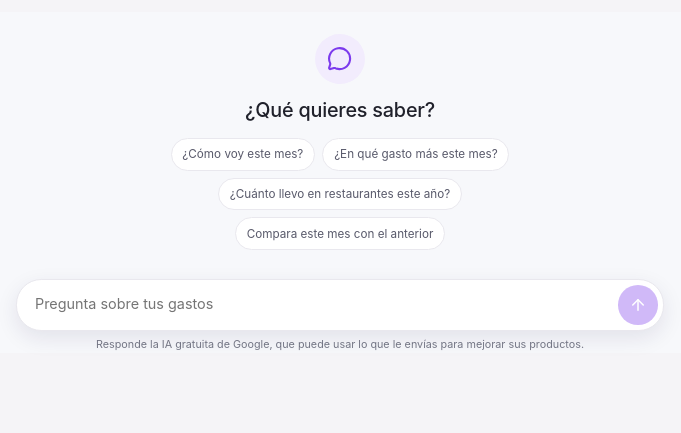
Chat › shows server errors such as the daily limit and keeps the question
In the text box named "Tu pregunta": [323, 305] box [35,285,611,325], type "¿Y en ocio?"
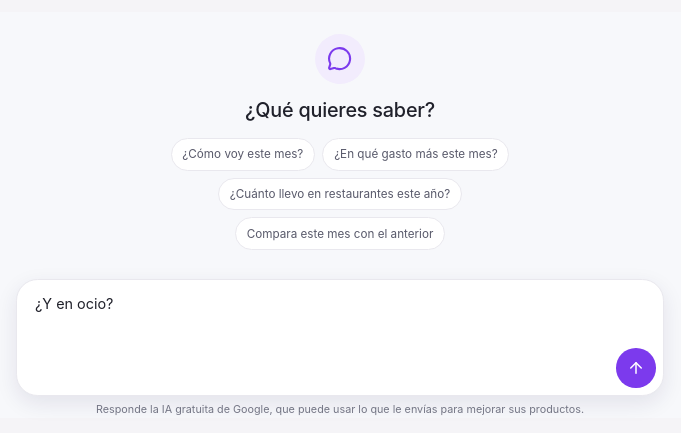
Press Enter in the text box named "Tu pregunta", box [35,291,656,341]
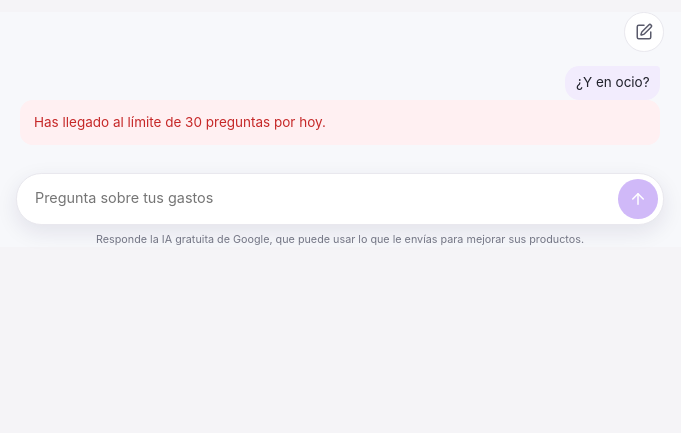
Expected: the message shows "límite de 30", [34,114,326,130]
Expected: the text "¿Y en ocio?" is shown, [565,66,660,100]
